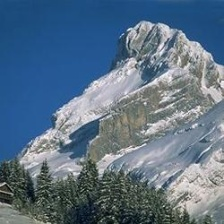neutral: (5, 4, 223, 220)
